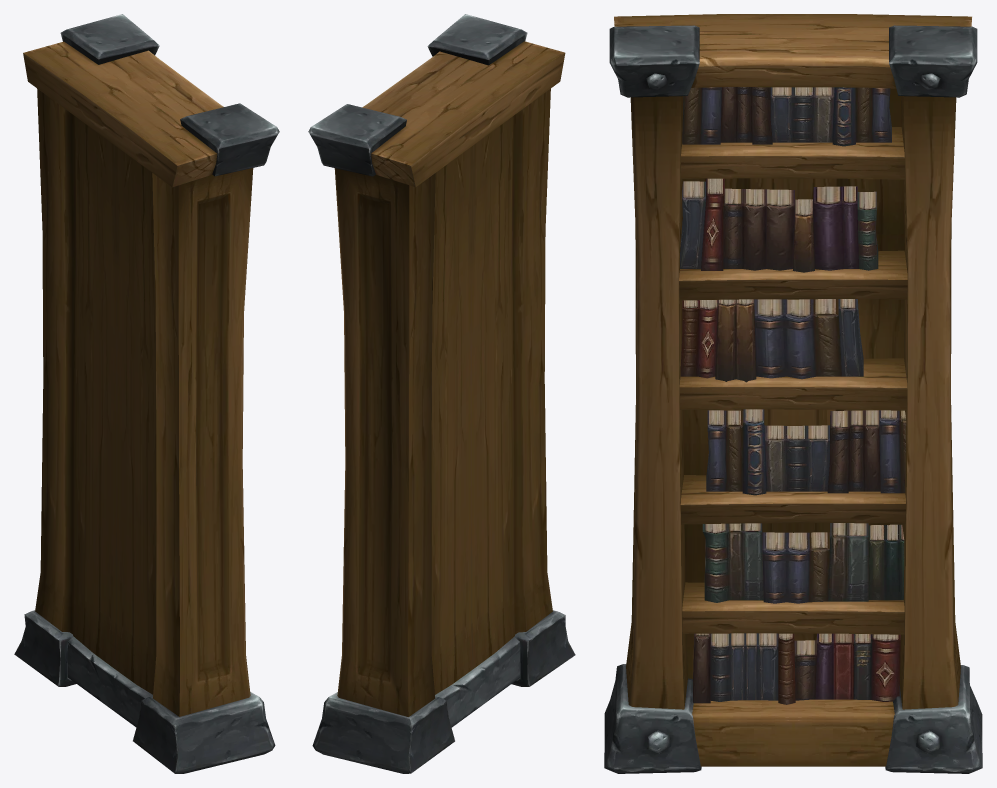
The picture shows the model from 3 angles, left to right: view 1: azimuth 30°, elevation 25°; view 2: azimuth 150°, elevation 25°; view 3: azimuth 270°, elevation 25°; orthographic projection. The views are drawn at different scales.
Size of the model in its own units: 1.06 by 5.72 by 2.72.
4 materials, 4 textured.
